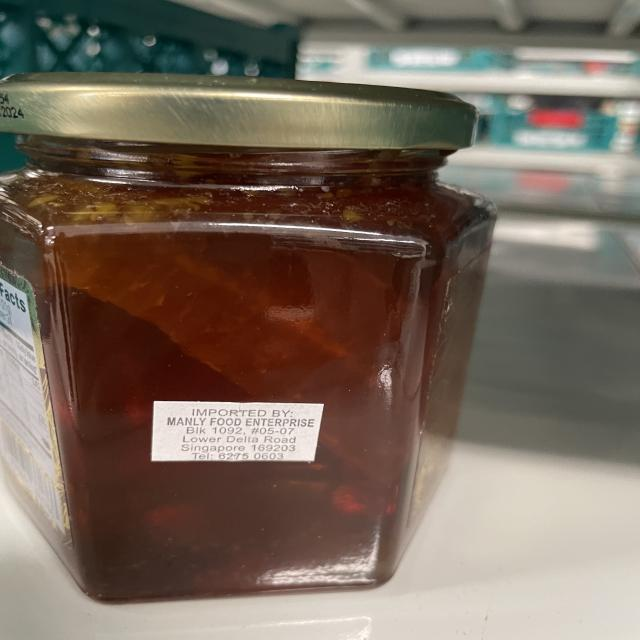object_name: (4, 72, 488, 604)
